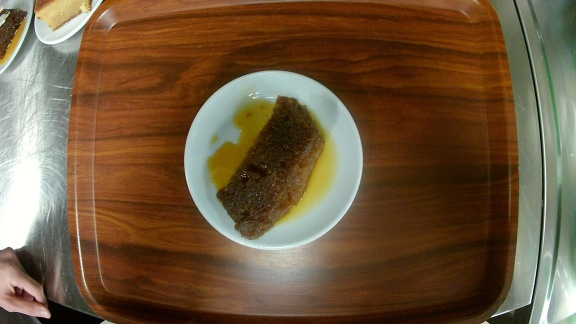ekmekkadayifi: (183, 71, 364, 248)
